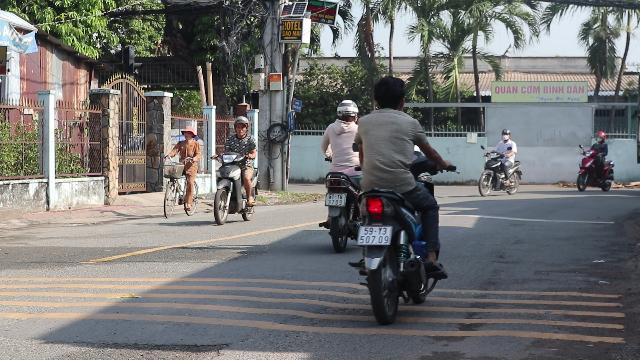helmet: (334, 99, 358, 123), (233, 116, 249, 136)
licenseplate: (358, 226, 390, 244), (326, 193, 344, 205)
motorcyclist: (352, 74, 452, 320), (316, 98, 362, 250), (211, 114, 261, 224)
nohelmet: (370, 75, 406, 112)
